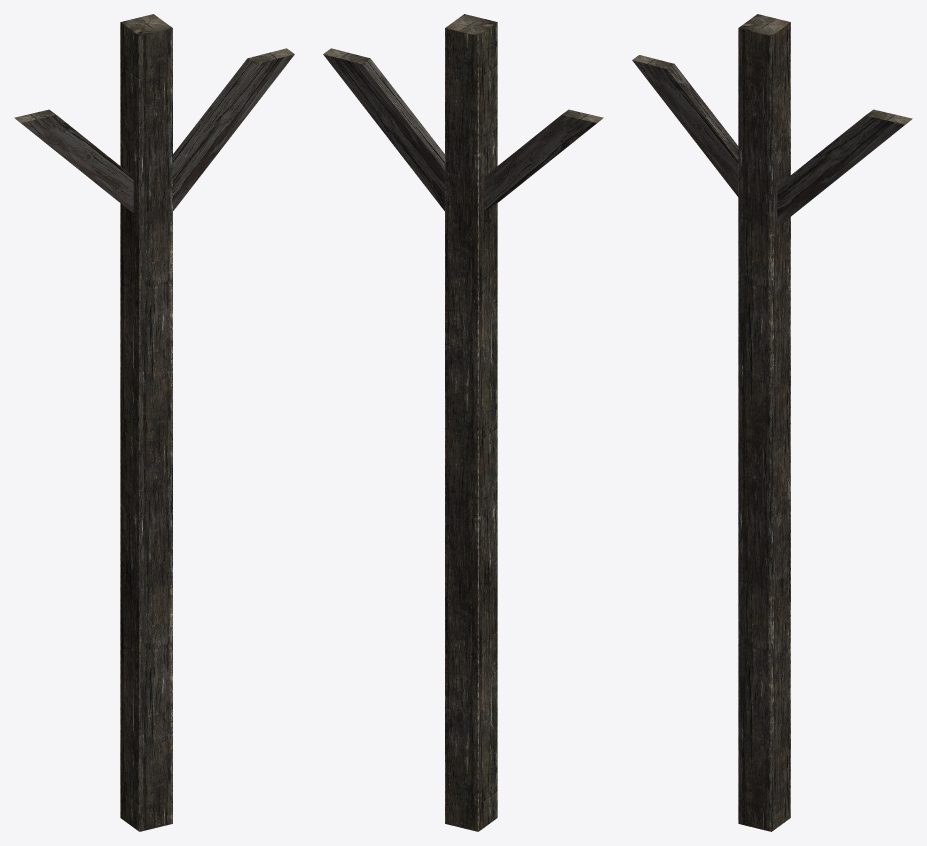
Rendered from Wood2.fbx.
3 views of the same model, side by side, from view 1: azimuth 30°, elevation 25°; view 2: azimuth 150°, elevation 25°; view 3: azimuth 330°, elevation 25° (orthographic).
Visible parts, largest first — view 1: Wood2; view 2: Wood2; view 3: Wood2.
Part boxes in pixels (<box>): Wood2: <box>14,14,294,831</box>; Wood2: <box>323,14,603,831</box>; Wood2: <box>632,14,912,831</box>.
Size of the model in its own units: 3.1 by 8.63 by 0.3786.
